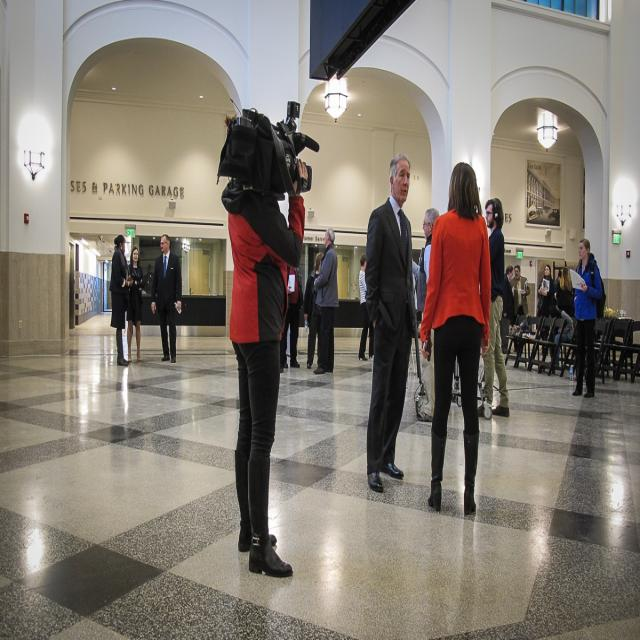body: (220, 111, 309, 581), (416, 154, 494, 518), (363, 148, 420, 495), (473, 194, 512, 423), (411, 206, 441, 424), (569, 237, 608, 399), (150, 232, 183, 365), (312, 225, 341, 376), (109, 233, 134, 367), (279, 262, 304, 369), (302, 251, 324, 370), (125, 246, 146, 363), (509, 263, 531, 355), (547, 304, 575, 368), (536, 263, 554, 360), (358, 253, 374, 362), (499, 264, 515, 356), (555, 256, 573, 305), (142, 264, 156, 294), (412, 256, 418, 316)
